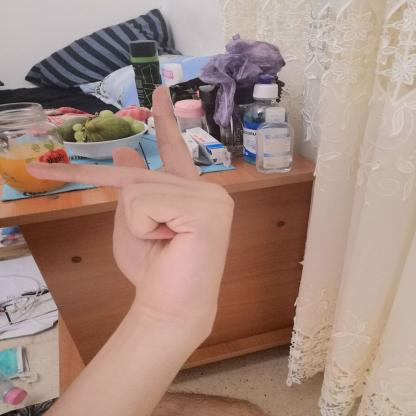DHAA: (11, 71, 246, 319)
